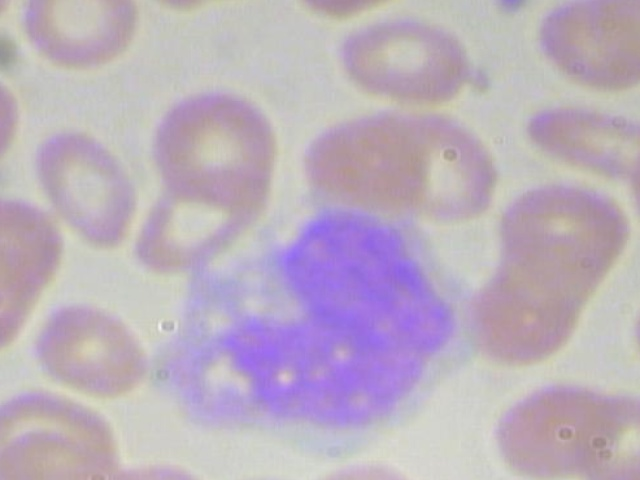RBC: (153, 80, 285, 204), (481, 370, 629, 474), (126, 165, 269, 272), (326, 12, 480, 111), (31, 124, 142, 248), (34, 281, 145, 404), (14, 0, 143, 94), (522, 94, 640, 186), (0, 56, 15, 180)
WBC: (146, 200, 481, 445)
